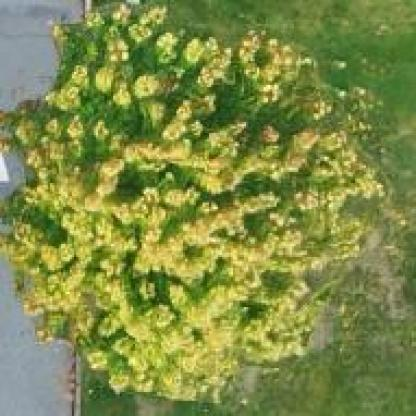Deciduous Tree: (1, 7, 382, 374)
